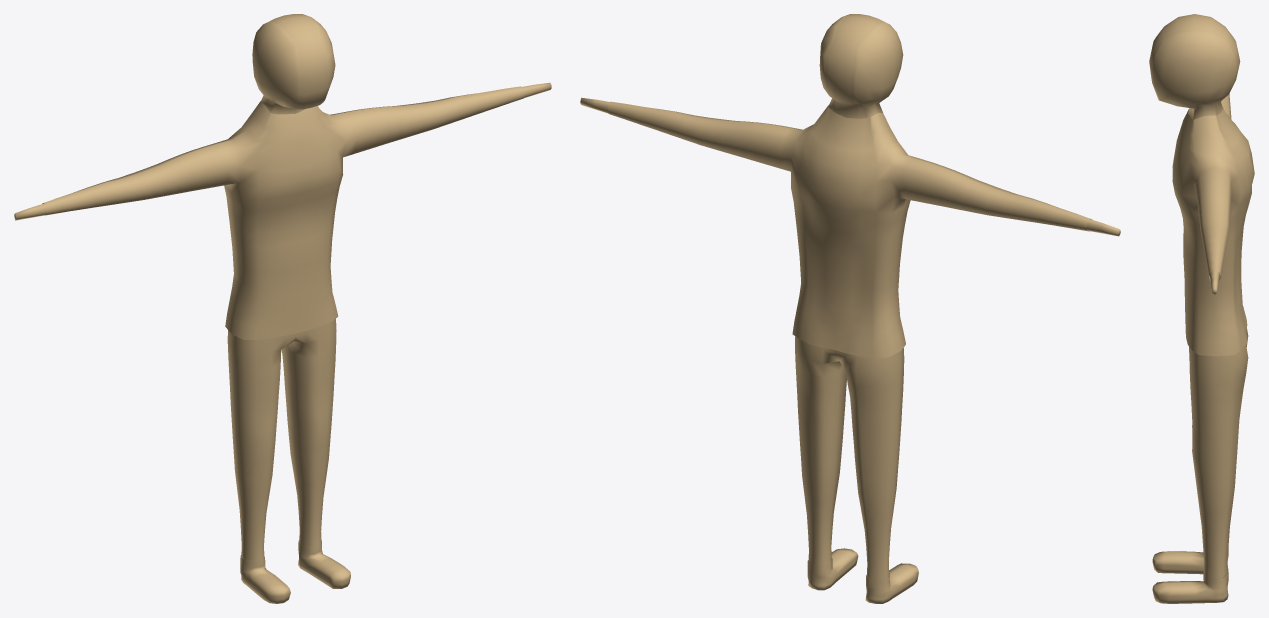
The model's file is VrBoyNoBody.fbx.
3 views of the same model, side by side, from view 1: azimuth 30°, elevation 25°; view 2: azimuth 150°, elevation 25°; view 3: azimuth 270°, elevation 25° (orthographic).
Parts seen in each view (by area): view 1: Shirt, Pants, Body, Shoes; view 2: Shirt, Pants, Body, Shoes; view 3: Shirt, Pants, Body, Shoes.
Part boxes in pixels (box(x1,y1,x2,y2)): Shirt: box(42, 86, 524, 339); Pants: box(227, 319, 336, 560); Body: box(14, 14, 551, 220); Shoes: box(240, 540, 350, 603); Shirt: box(608, 101, 1092, 357); Pants: box(795, 336, 904, 579); Body: box(580, 14, 1120, 236); Shoes: box(807, 548, 918, 603); Shirt: box(1172, 93, 1254, 356); Pants: box(1189, 327, 1248, 578); Body: box(1149, 14, 1240, 294); Shoes: box(1152, 548, 1228, 603).
Bounding box in the file's own units: 339 × 341 × 57.83.
